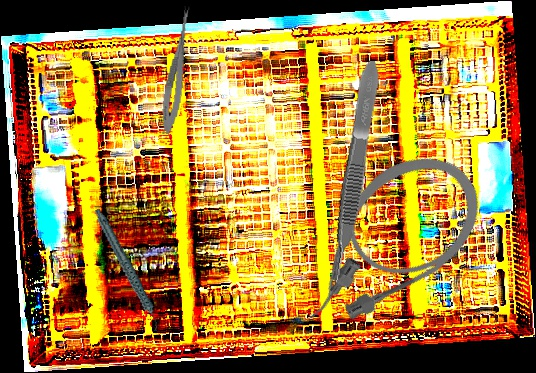Cannula: (265, 132, 503, 350)
Handpiece: (93, 201, 161, 339)
Micro Scissor: (158, 4, 194, 136)
Tissue Forceps: (323, 59, 385, 286)
